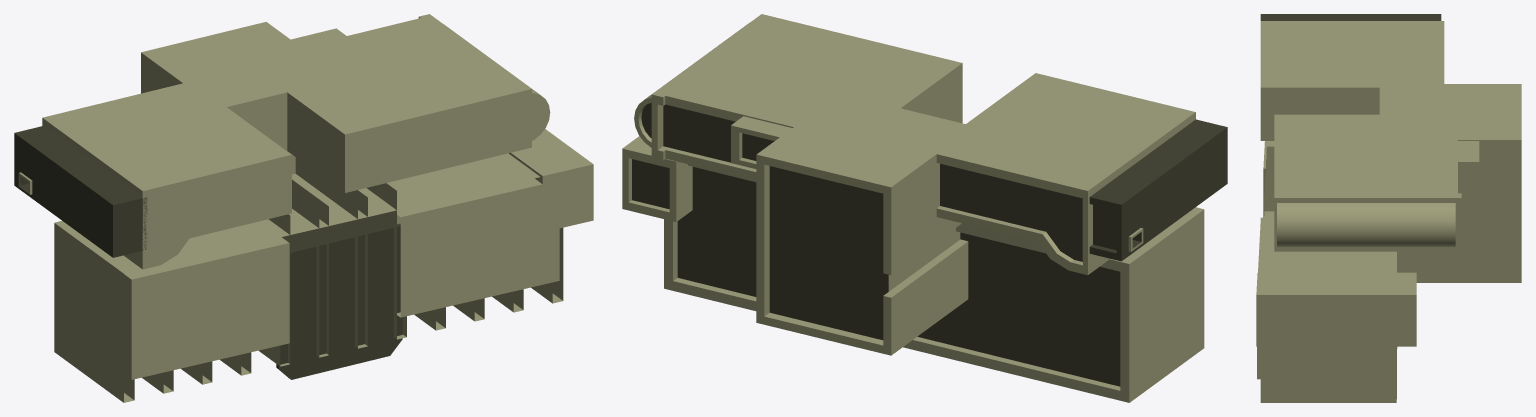
File: SM_Sunhun_B01.FBX
3 views of the same model, side by side, from view 1: azimuth 30°, elevation 25°; view 2: azimuth 150°, elevation 25°; view 3: azimuth 270°, elevation 25° (orthographic). The views are drawn at different scales.
Parts seen in each view (by area): view 1: Box019; view 2: Box019; view 3: Box019.
Part boxes in pixels (x1,y1,x2,y2): Box019: (14,14,593,402); Box019: (622,14,1227,402); Box019: (1256,14,1521,402).
Size of the model in its own units: 119 by 54.75 by 62.45.
